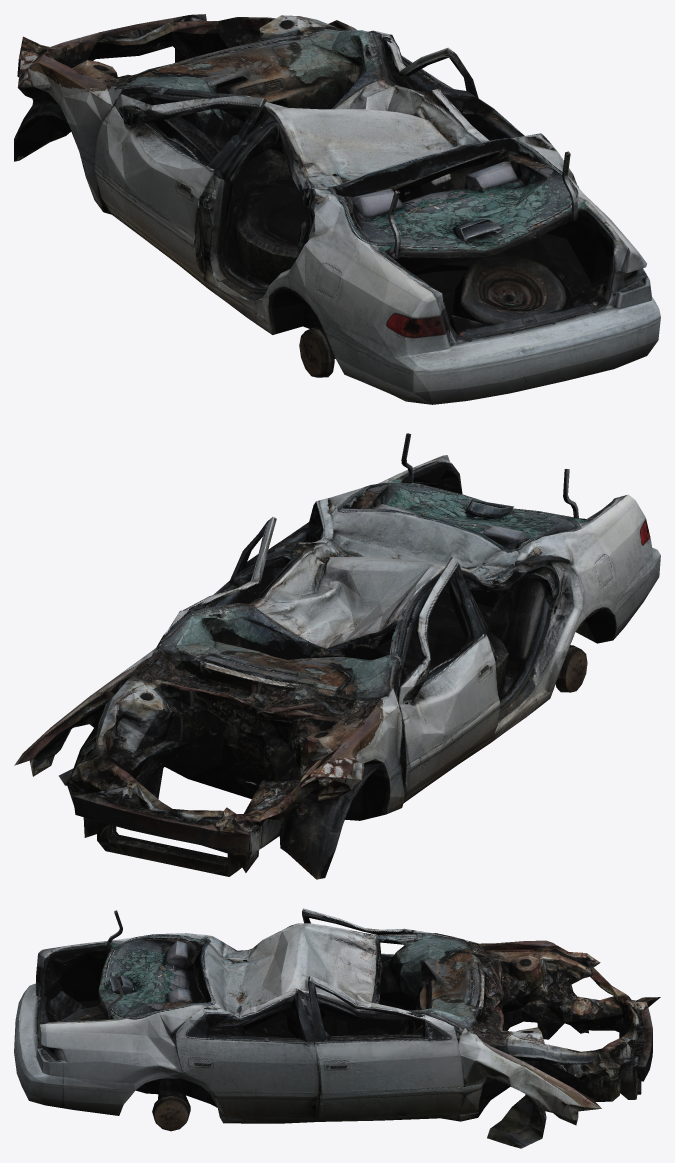
Rendered from EVO4FI472GLTS1V93PTR6RLPH.glb.
3 renders of one model, top to bottom at view 1: azimuth 30°, elevation 25°; view 2: azimuth 150°, elevation 25°; view 3: azimuth 270°, elevation 25°, orthographic. The views are drawn at different scales.
Size of the model in its own units: 1.14 by 0.635 by 2.5.
1 material, 1 textured.
